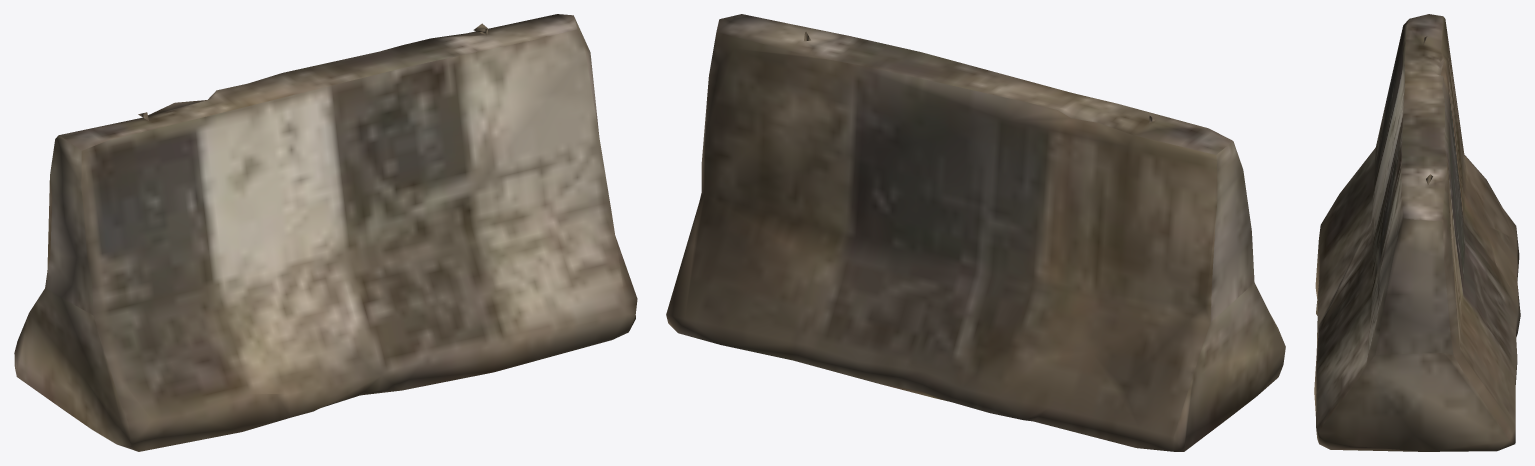
The model's file is separateur_beton_lod2.glb.
3 views of the same model, side by side, from view 1: azimuth 30°, elevation 25°; view 2: azimuth 150°, elevation 25°; view 3: azimuth 270°, elevation 25° (orthographic). The views are drawn at different scales.
Visible parts, largest first — view 1: concrete_road_barrier; view 2: concrete_road_barrier; view 3: concrete_road_barrier.
Boxes of the visible parts, x1=… form: concrete_road_barrier: x1=14, y1=14, x2=637, y2=451; concrete_road_barrier: x1=666, y1=14, x2=1285, y2=451; concrete_road_barrier: x1=1314, y1=14, x2=1520, y2=451.
Size of the model in its own units: 1.54 by 0.8293 by 0.6342.
Materials: 1 (1 with a texture image).
